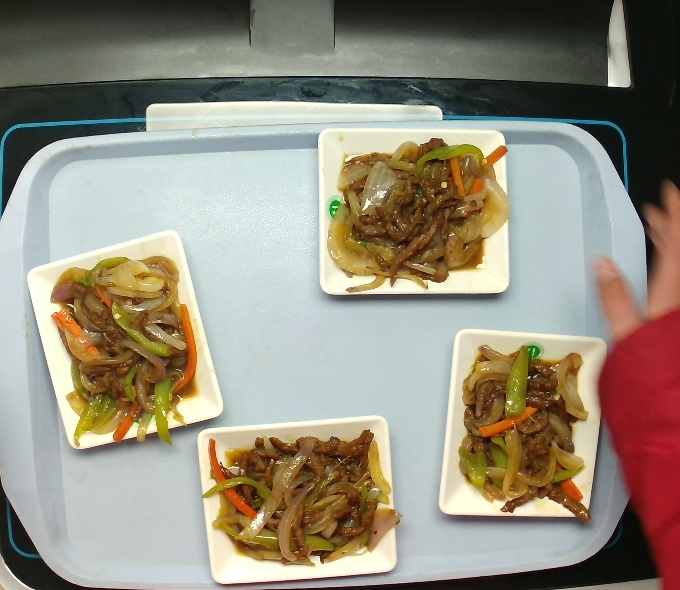wcq-NiuYangCongNiuLiu: (41, 255, 207, 447), (323, 132, 515, 293), (455, 337, 593, 516), (205, 432, 394, 558)
